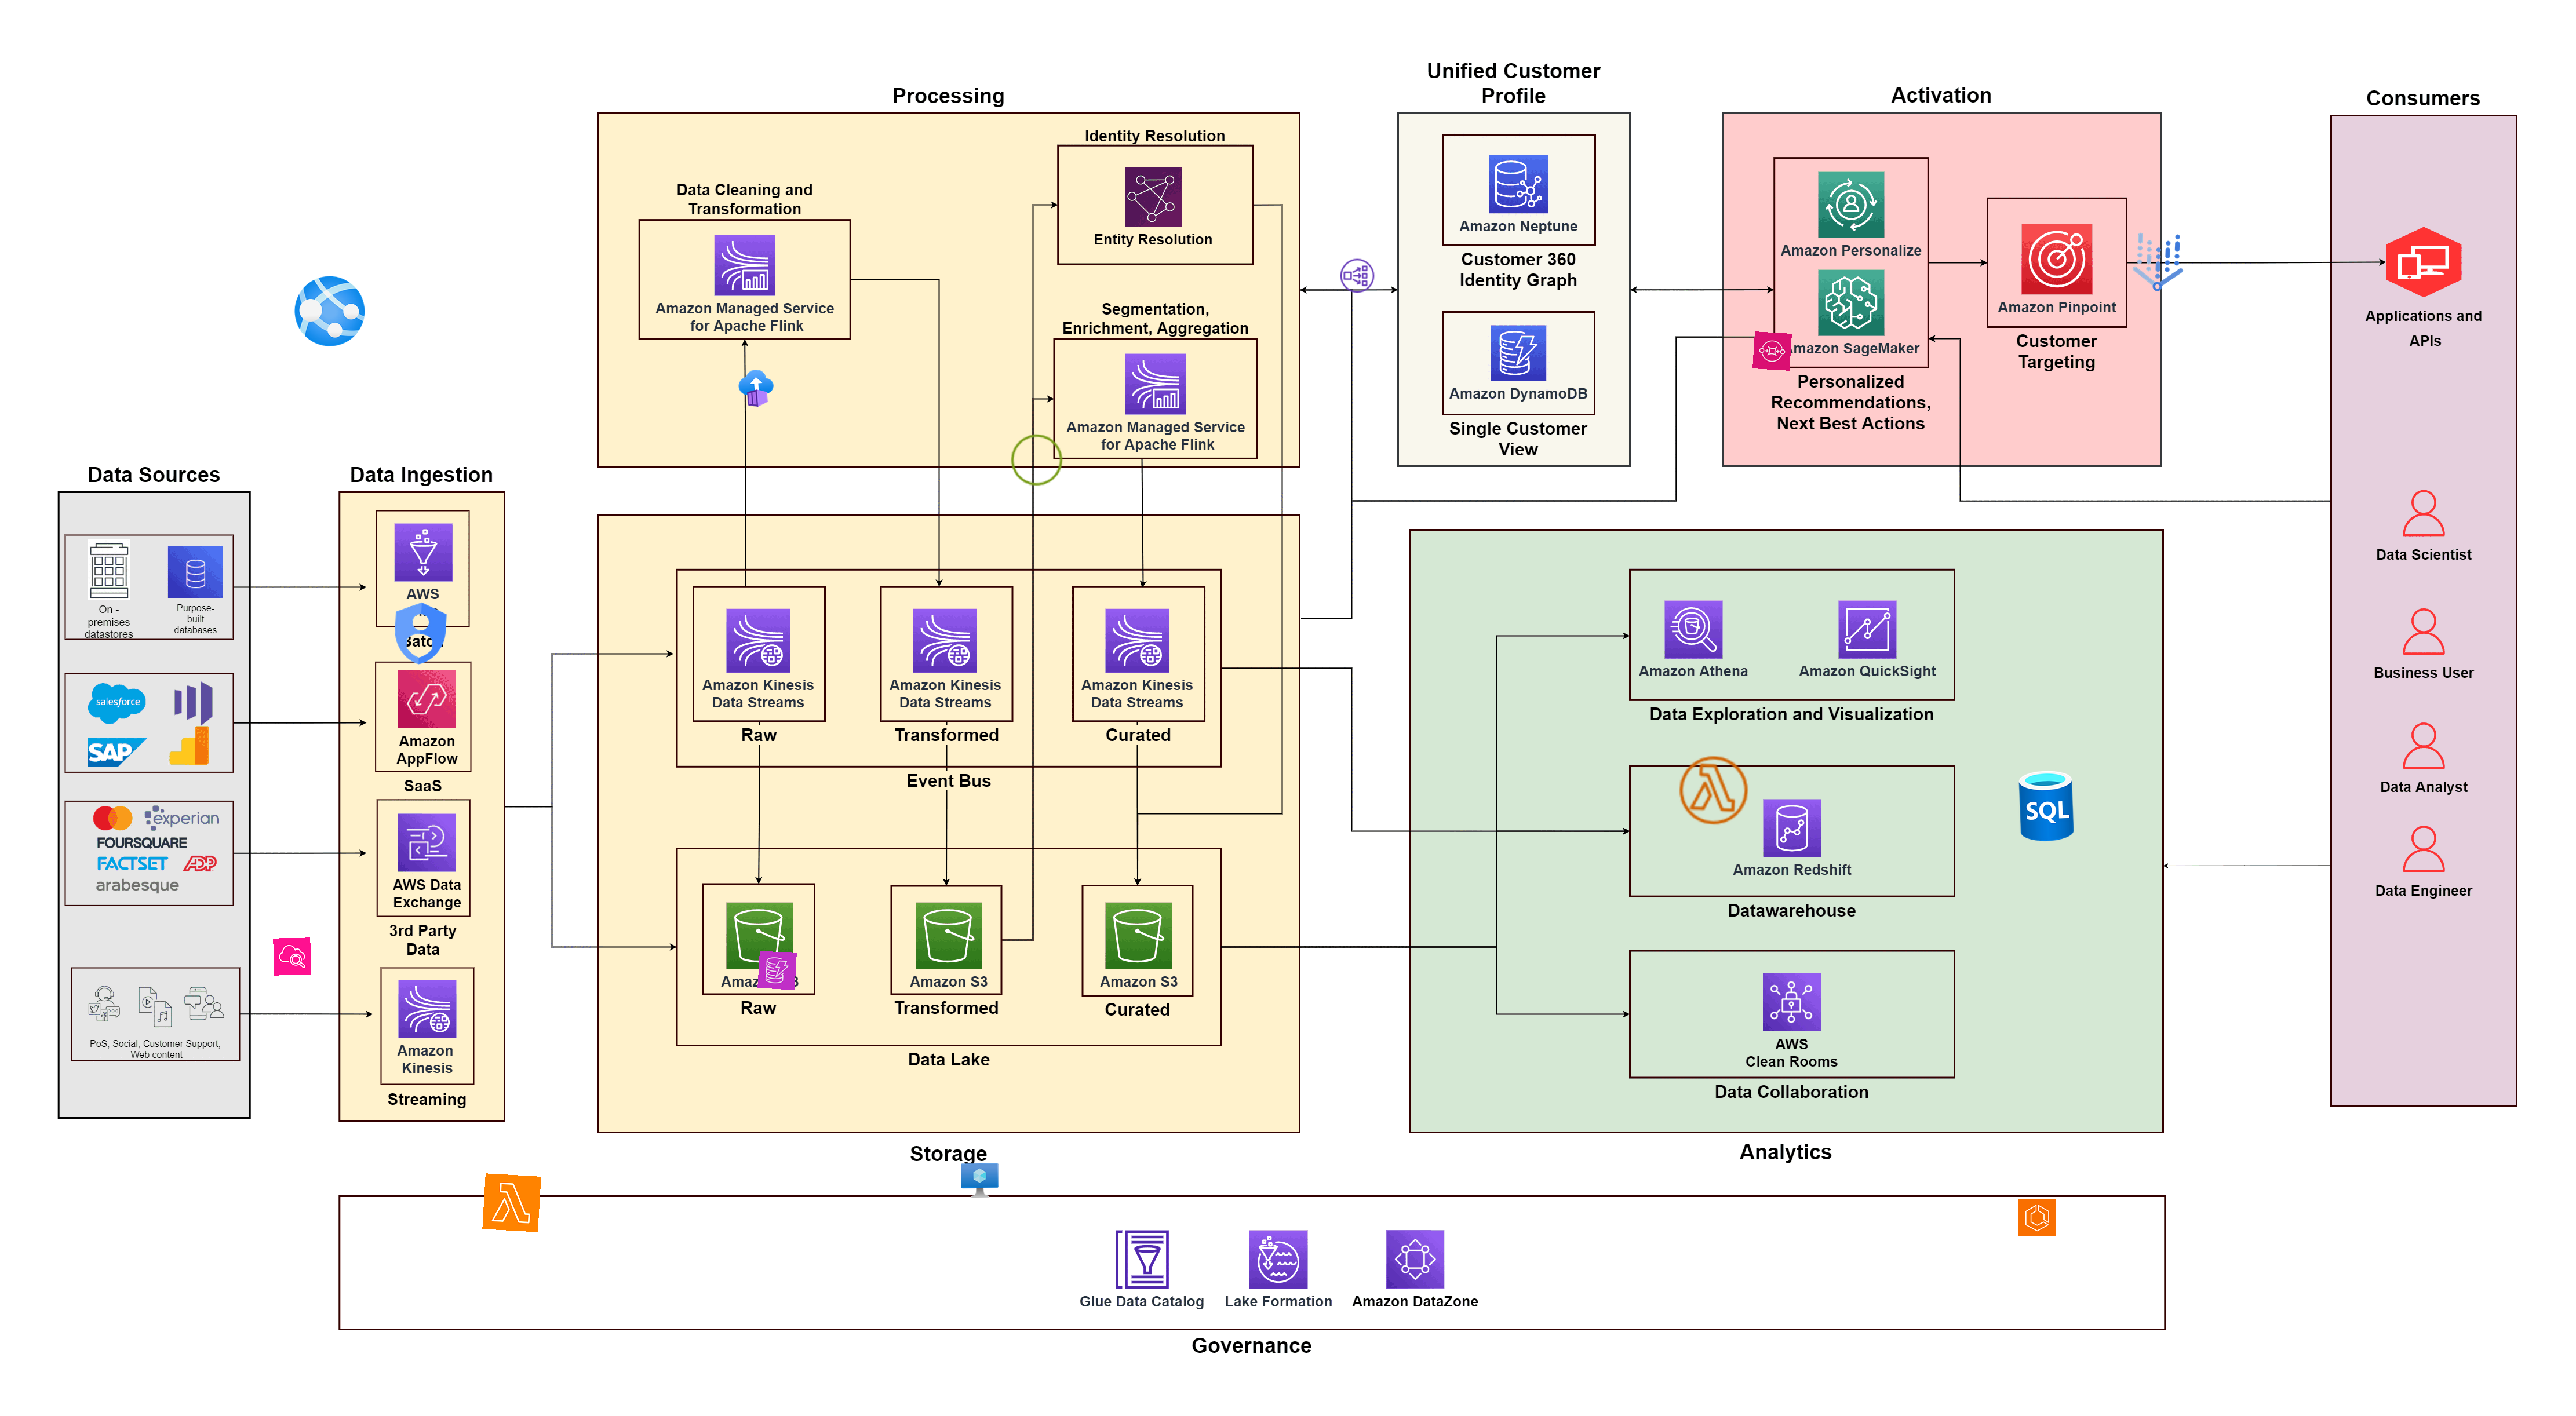aws_amazon_cloudwatch: (274, 938, 310, 975)
aws_amazon_dynamodb: (757, 950, 797, 991)
aws_amazon_elastic_container_service: (2018, 1198, 2056, 1236)
aws_amazon_simple_queue_service: (1753, 331, 1791, 371)
aws_elastic_load_balancing_network_load_balancer: (1338, 256, 1376, 295)
aws_lambda: (481, 1174, 541, 1233)
aws_lambda_lambda_function: (1674, 752, 1753, 830)
aws_simple_storage_service_object: (1006, 431, 1067, 490)
azure_app_services: (291, 272, 368, 349)
azure_container_instances: (736, 368, 776, 408)
azure_sql_database: (2007, 767, 2086, 844)
azure_virtual_machine: (961, 1161, 999, 1200)
gcp_identity_and_access_management: (380, 595, 460, 673)
gcp_vertex_ai: (2119, 223, 2198, 302)
